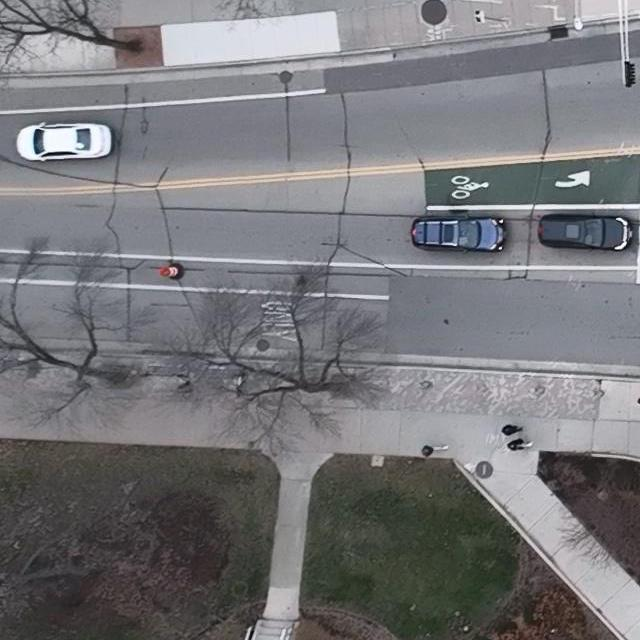car: (410, 211, 508, 255), (538, 212, 635, 253), (17, 120, 112, 161)
